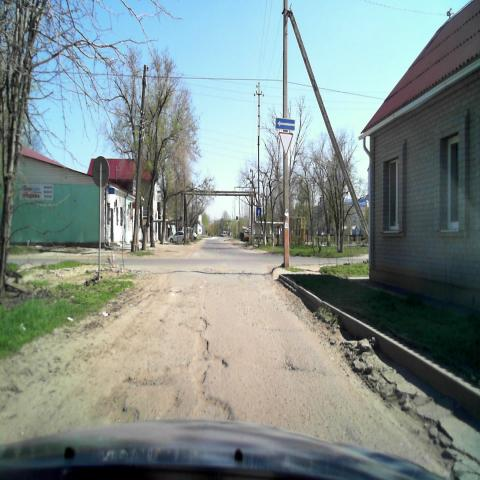1_21: (256, 198, 262, 206)
2_4: (278, 130, 295, 156)
5_5: (256, 207, 262, 216)
5_7_2: (276, 117, 295, 131)
